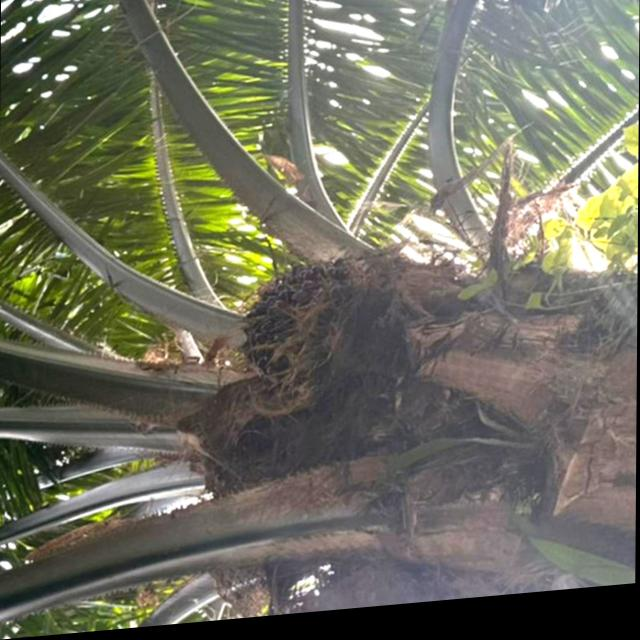ripe: (222, 256, 369, 406)
